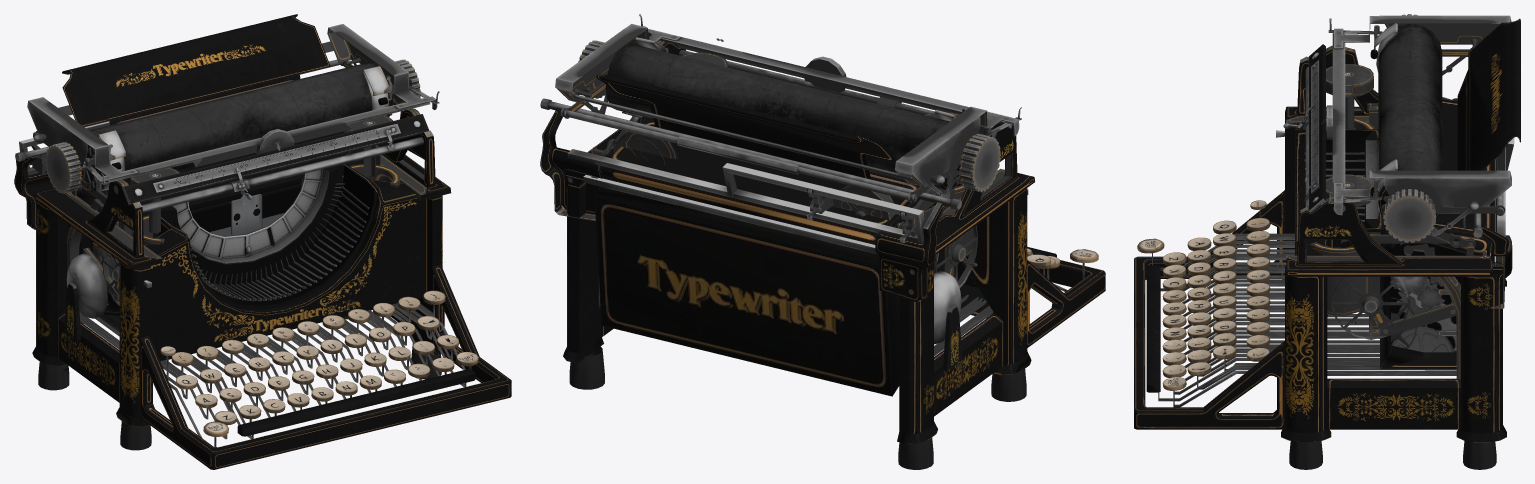
File: typewriter.glb
The picture shows the model from 3 angles, left to right: view 1: azimuth 30°, elevation 25°; view 2: azimuth 150°, elevation 25°; view 3: azimuth 270°, elevation 25°; orthographic projection. The views are drawn at different scales.
Parts seen in each view (by area): view 1: body, carriage, platen_mesh, spacebar_mesh, key_2_00_mesh; view 2: carriage, body, platen_mesh; view 3: carriage, body, platen_mesh, spacebar_mesh, key_3_10_mesh, key_2_10_mesh, key_0_10_mesh, key_3_09_mesh, key_2_09_mesh, key_3_06_mesh, key_1_09_mesh, key_2_06_mesh (+18 smaller).
Boxes of the visible parts, <box> form: body: <box>15,59,511,469</box>; carriage: <box>14,14,451,340</box>; platen_mesh: <box>81,61,393,191</box>; spacebar_mesh: <box>237,369,475,436</box>; key_2_00_mesh: <box>95,317,217,419</box>; carriage: <box>540,14,1034,396</box>; body: <box>540,98,1105,469</box>; platen_mesh: <box>605,43,960,189</box>; carriage: <box>1276,14,1520,379</box>; body: <box>1134,117,1506,469</box>; platen_mesh: <box>1378,24,1442,219</box>; spacebar_mesh: <box>1146,265,1160,392</box>; key_3_10_mesh: <box>1162,370,1456,407</box>; key_2_10_mesh: <box>1187,362,1456,389</box>; key_0_10_mesh: <box>1246,348,1456,375</box>; key_3_09_mesh: <box>1162,358,1379,394</box>; key_2_09_mesh: <box>1187,349,1379,376</box>; key_3_06_mesh: <box>1162,322,1368,354</box>; key_1_09_mesh: <box>1213,333,1379,353</box>; key_2_06_mesh: <box>1187,312,1368,337</box>.
Size of the model in its own units: 38.33 by 29.11 by 33.
5 materials, 5 textured.
